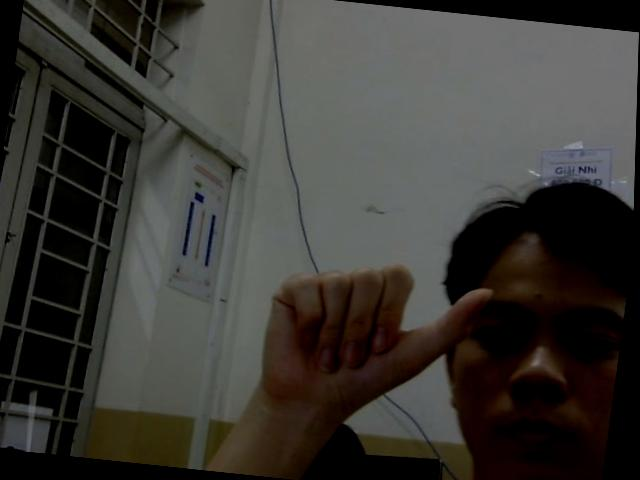A: (257, 245, 498, 408)
